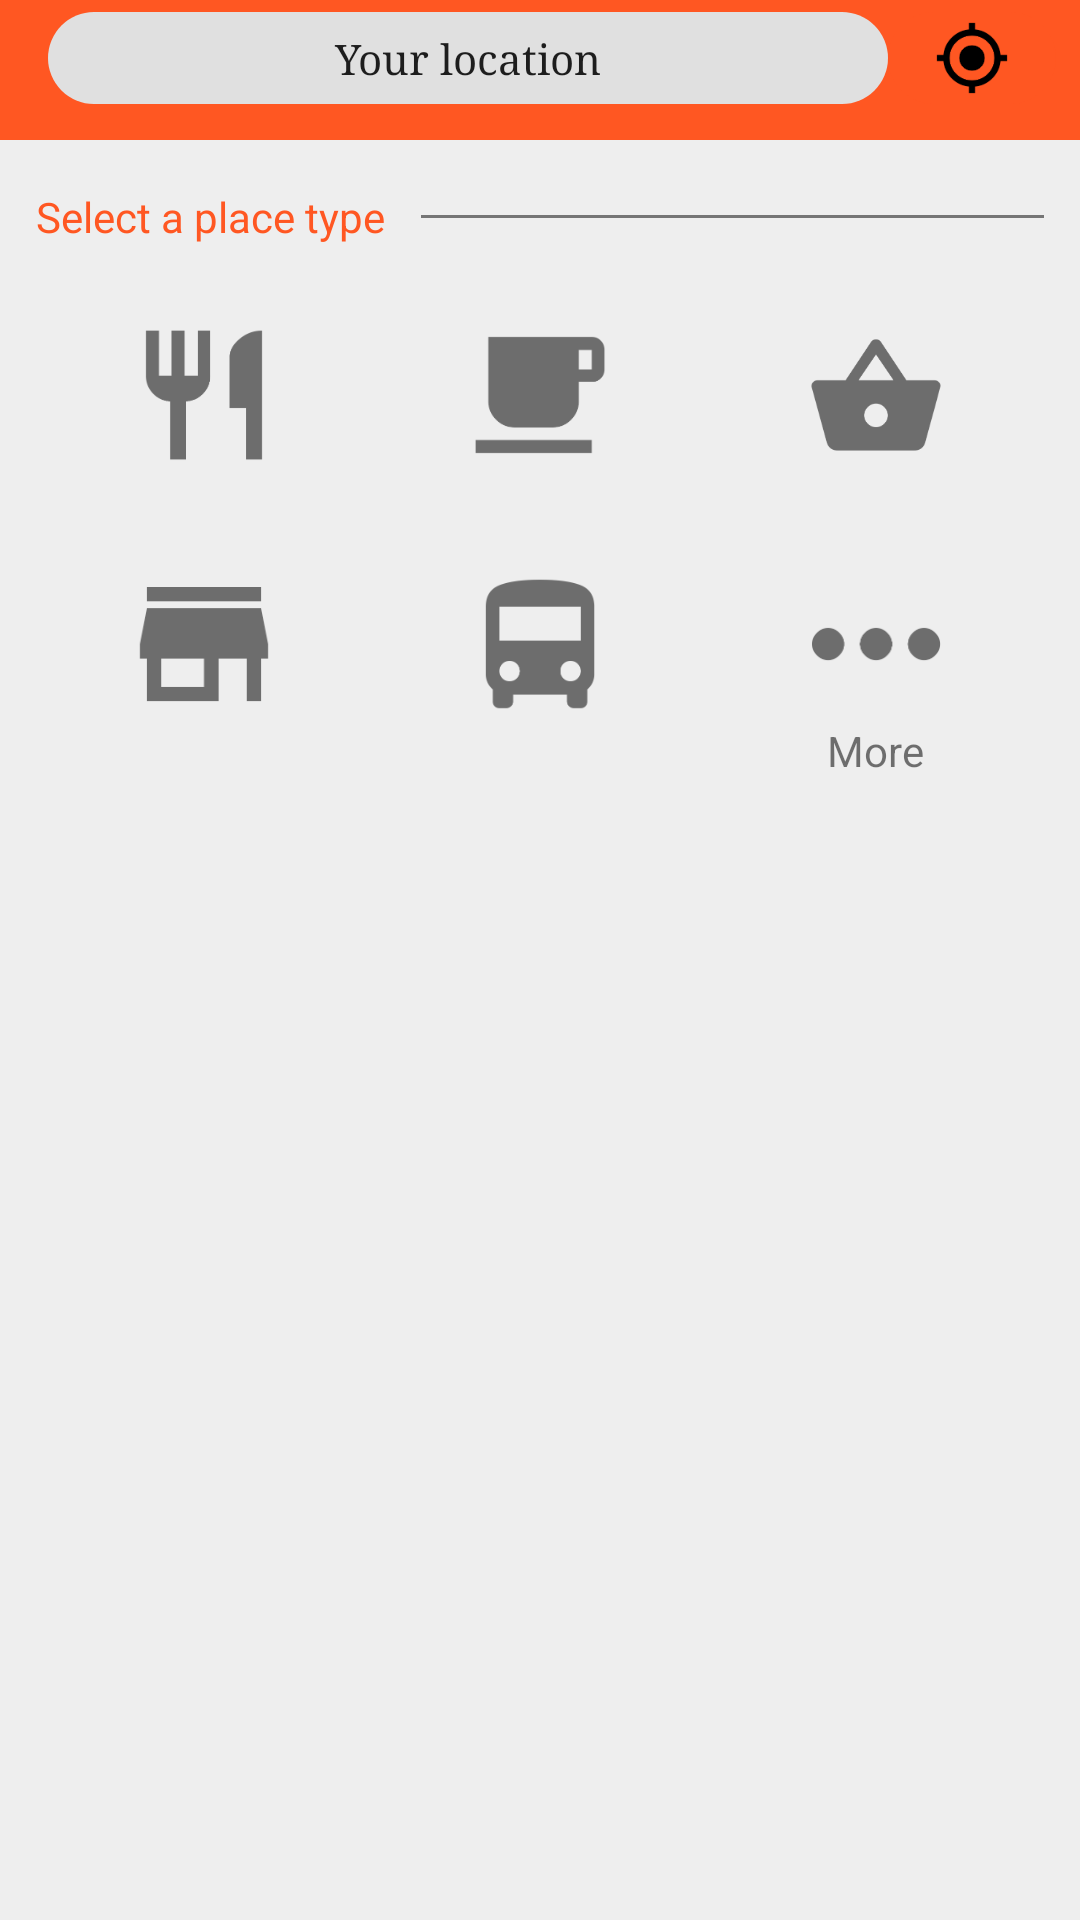

Locate icon controls on the screen. Image size 1080×1920, boxes as box(x1, y1, x2, y2).
bus station: box(486, 579, 595, 709)
cafe: box(475, 337, 605, 453)
convenience store: box(140, 587, 268, 701)
location detector: box(936, 22, 1008, 94)
restaurant: box(146, 330, 262, 460)
